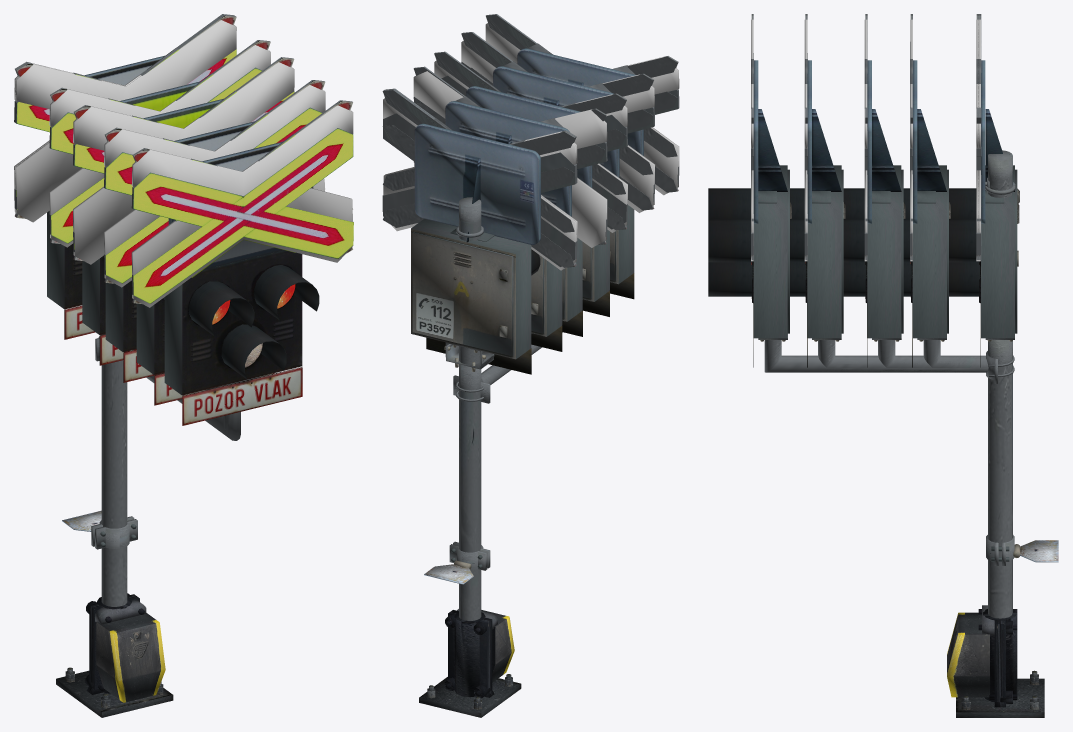
Rendered from azd71_vyst.obj.
3 renders of one model, left to right at view 1: azimuth 30°, elevation 25°; view 2: azimuth 150°, elevation 25°; view 3: azimuth 270°, elevation 25°, orthographic. The views are drawn at different scales.
Parts seen in each view (by area): view 1: kriz_1k_refl_100_velky, kriz_xk_refl_stozar_velky, kriz_xk_refl_100_velky, azd71_predek_100, kriz_xk_refl_50_velky, azd71_stozar_kratky, azd71_podstavec, kriz_xk_refl_75_velky, kriz_xk_refl_30_velky, azd71_stinidlo_100, azd71_pozor_vlak_100, kriz_1k_refl_75_velky (+23 smaller); view 2: azd71_skrin_00, kriz_sk_00, azd71_stozar_kratky, kriz_xk_back_00_velky, kriz_xk_refl_30_velky, azd71_zaklad, kriz_sk_30, kriz_sk_75, kriz_xk_back_50_velky, azd71_skrin_30, kriz_sk_100, kriz_1k_refl_00_velky (+20 smaller); view 3: azd71_stozar_kratky, azd71_skrin_00, azd71_skrin_50, azd71_skrin_75, azd71_skrin_100, azd71_skrin_30, azd71_podstavec, azd71_stinidlo_100, azd71_zaklad, kriz_sk_100, azd71_podklad, azd71_sloup_100 (+18 smaller).
Part boxes in pixels (bbox=[...]): kriz_1k_refl_100_velky: bbox=[131, 128, 353, 303]; kriz_xk_refl_stozar_velky: bbox=[15, 20, 236, 222]; kriz_xk_refl_100_velky: bbox=[131, 105, 353, 307]; azd71_predek_100: bbox=[182, 250, 302, 395]; kriz_xk_refl_50_velky: bbox=[73, 62, 294, 264]; azd71_stozar_kratky: bbox=[91, 334, 137, 606]; azd71_podstavec: bbox=[95, 600, 165, 702]; kriz_xk_refl_75_velky: bbox=[104, 85, 325, 287]; kriz_xk_refl_30_velky: bbox=[49, 45, 270, 247]; azd71_stinidlo_100: bbox=[188, 265, 319, 336]; azd71_pozor_vlak_100: bbox=[182, 367, 302, 425]; kriz_1k_refl_75_velky: bbox=[104, 107, 321, 283]; azd71_skrin_00: bbox=[411, 219, 531, 374]; kriz_sk_00: bbox=[414, 123, 540, 244]; azd71_stozar_kratky: bbox=[449, 364, 490, 620]; kriz_xk_back_00_velky: bbox=[382, 89, 575, 267]; kriz_xk_refl_30_velky: bbox=[413, 71, 607, 247]; azd71_zaklad: bbox=[444, 610, 495, 698]; kriz_sk_30: bbox=[445, 102, 571, 216]; kriz_sk_75: bbox=[493, 66, 619, 177]; kriz_xk_back_50_velky: bbox=[434, 51, 626, 229]; azd71_skrin_30: bbox=[531, 255, 562, 351]; kriz_sk_100: bbox=[517, 48, 643, 155]; kriz_1k_refl_00_velky: bbox=[382, 113, 576, 266]; azd71_stozar_kratky: bbox=[986, 340, 1014, 618]; azd71_skrin_00: bbox=[980, 165, 1019, 367]; azd71_skrin_50: bbox=[867, 165, 905, 367]; azd71_skrin_75: bbox=[807, 165, 845, 367]; azd71_skrin_100: bbox=[753, 165, 791, 367]; azd71_skrin_30: bbox=[912, 165, 950, 367]; azd71_podstavec: bbox=[947, 605, 994, 697]; azd71_stinidlo_100: bbox=[708, 188, 753, 262]; azd71_zaklad: bbox=[978, 609, 1017, 707]; kriz_sk_100: bbox=[753, 60, 787, 223]; azd71_podklad: bbox=[956, 670, 1044, 717]; azd71_sloup_100: bbox=[764, 340, 988, 372].
Bounding box in the file's own units: 0.6555 × 1.88 × 0.9326.
